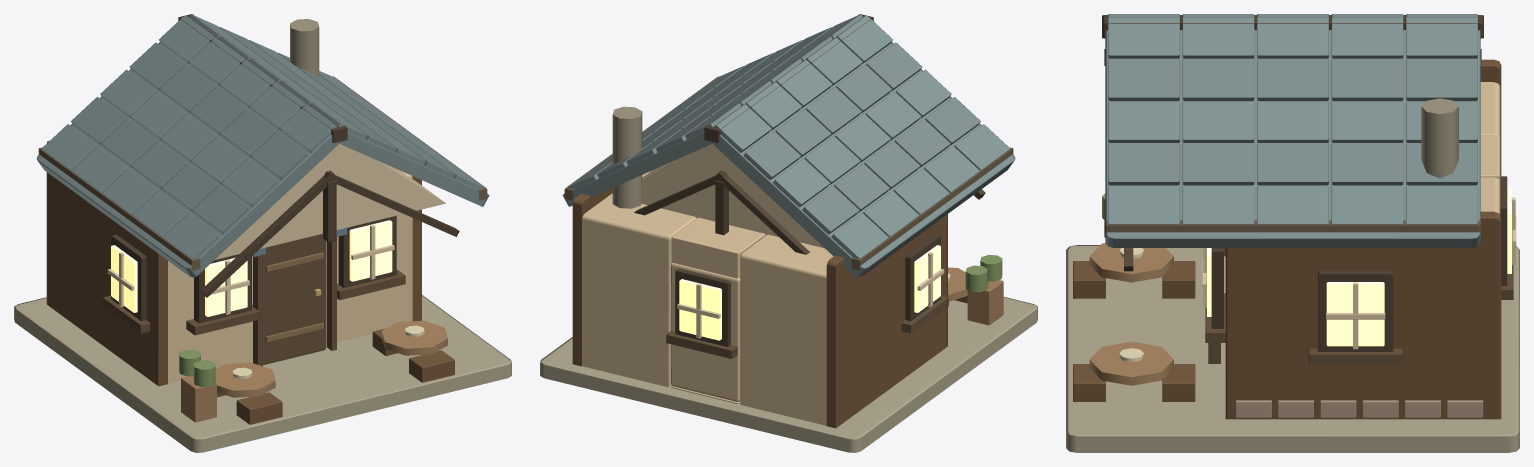
Rendered from restaurant-2.glb.
3 renders of one model, left to right at view 1: azimuth 30°, elevation 25°; view 2: azimuth 150°, elevation 25°; view 3: azimuth 270°, elevation 25°, orthographic. The views are drawn at different scales.
Parts seen in each view (by area): view 1: restaurant-2-0, door-hinge; view 2: restaurant-2-0; view 3: restaurant-2-0.
Part boxes in pixels (box(x1,y1,x2,y2)): restaurant-2-0: box(14, 14, 511, 452); door-hinge: box(263, 233, 326, 364); restaurant-2-0: box(540, 14, 1037, 452); restaurant-2-0: box(1066, 14, 1519, 452).
Bounding box in the file's own units: 2.9 × 2.41 × 2.9.
